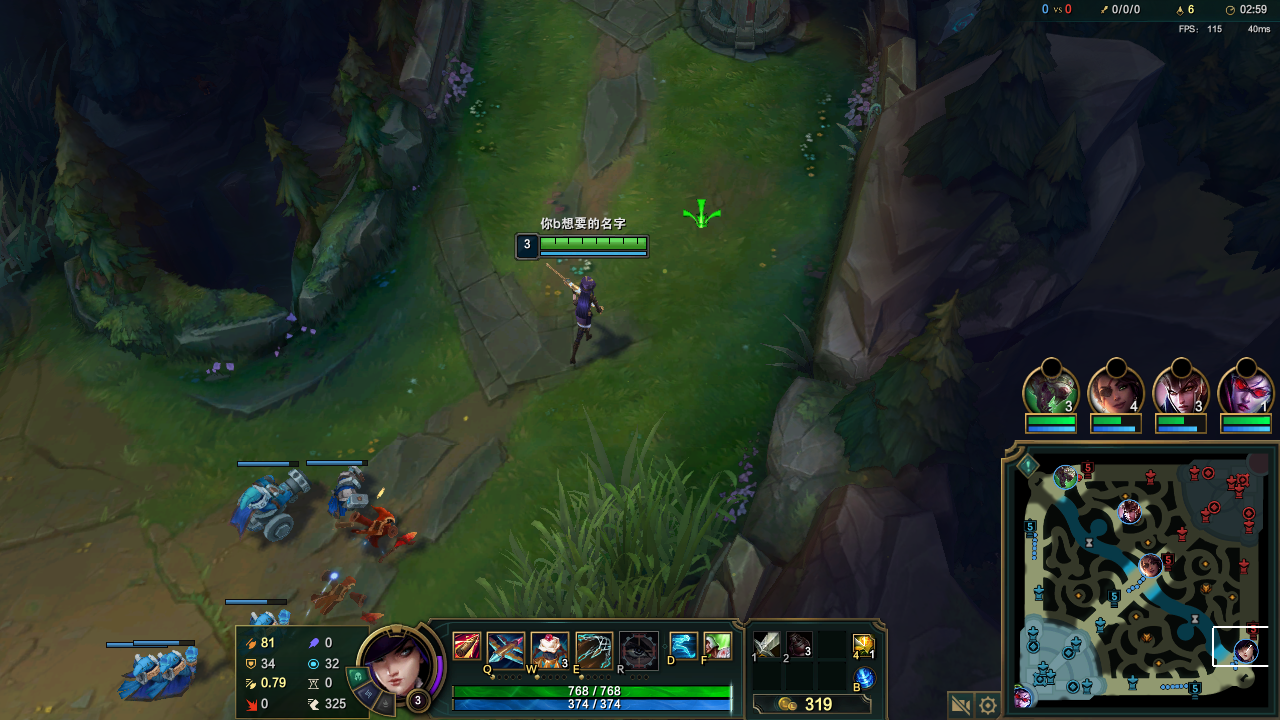WFXB: (229, 471, 307, 541), (117, 650, 164, 701), (164, 646, 200, 705), (329, 467, 369, 518), (250, 610, 293, 623)
Yita: (1187, 676, 1203, 697)
